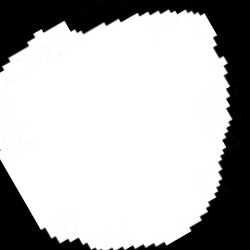spot: (0, 10, 234, 249)
